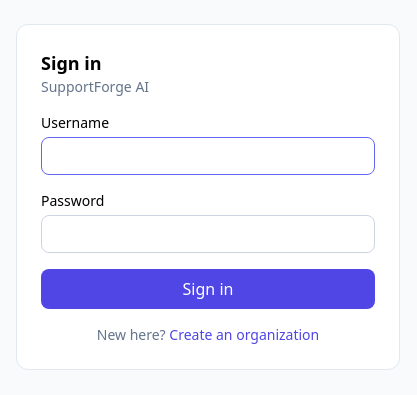
LoginPage › clears prior field errors once corrected and resubmitted
The image size is (417, 395).
In the password field labelled "Password": (208, 234) [41,215,375,253], type "Passw0rd!"
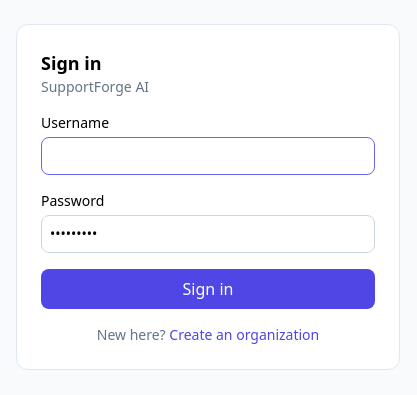
Click the button "Sign in": (208, 289) [41,269,375,309]
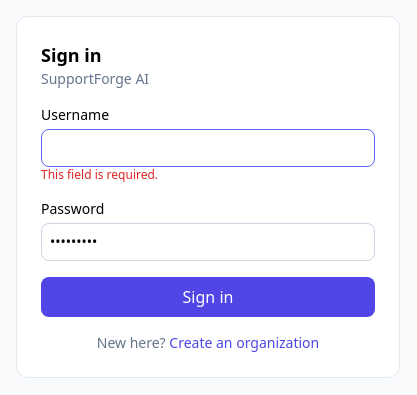
Expected: the message "This field is required." is shown, [41,166,158,183]
In the field labelled "Username": (208, 148) [41,129,375,167], type "alice"
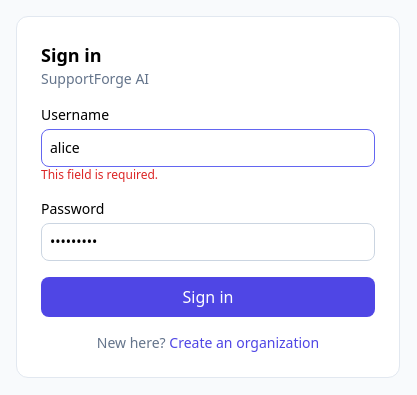
Click the button "Sign in": (208, 297) [41,277,375,317]
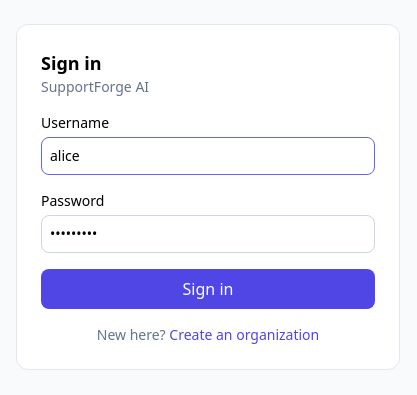
Expected: the message with id "userName-error" is gone
